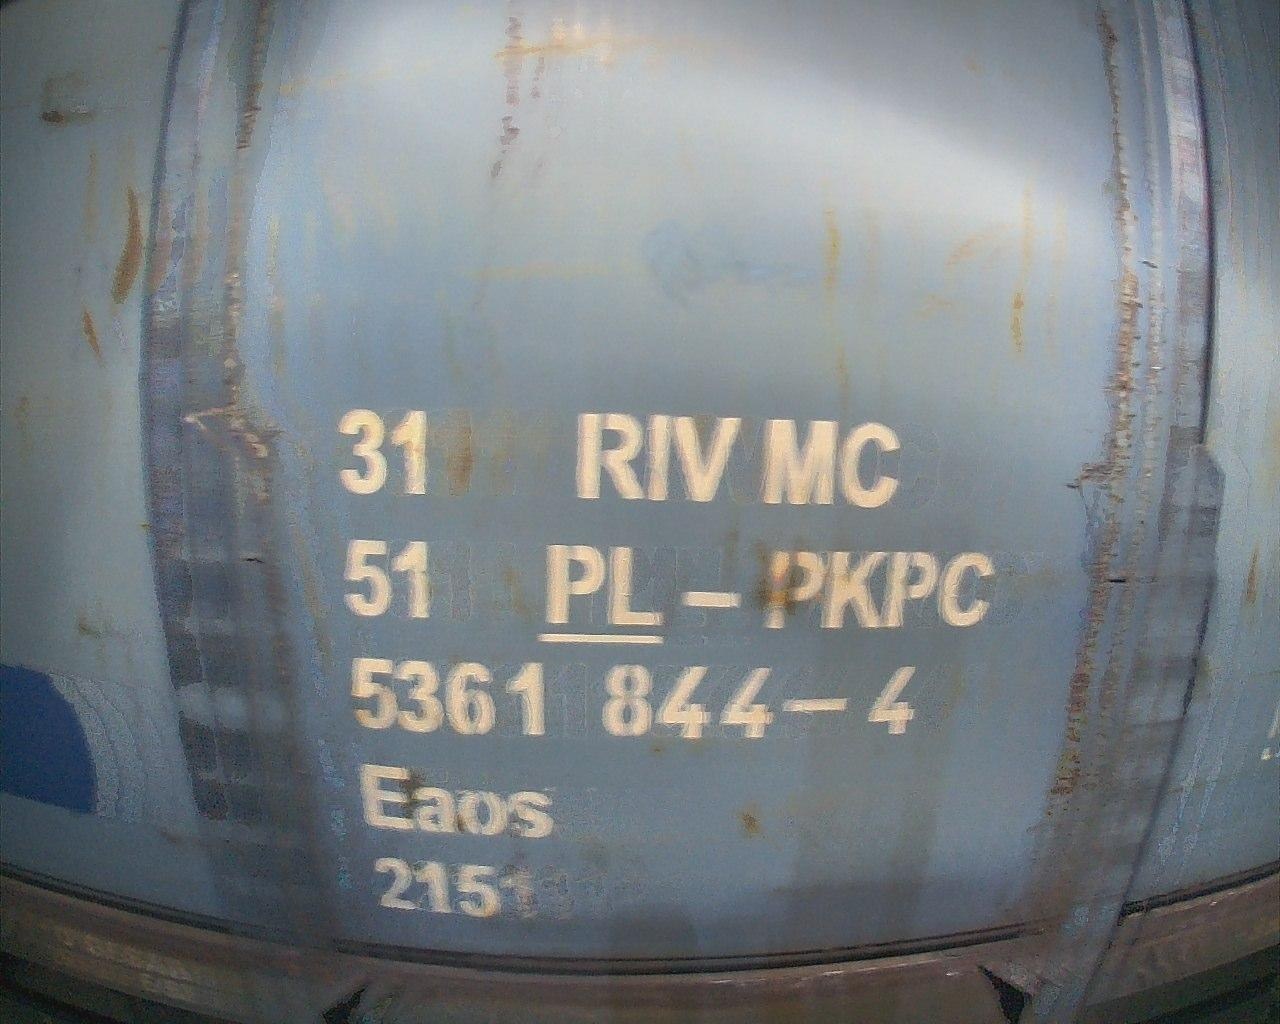UIC: (328, 402, 998, 925)
